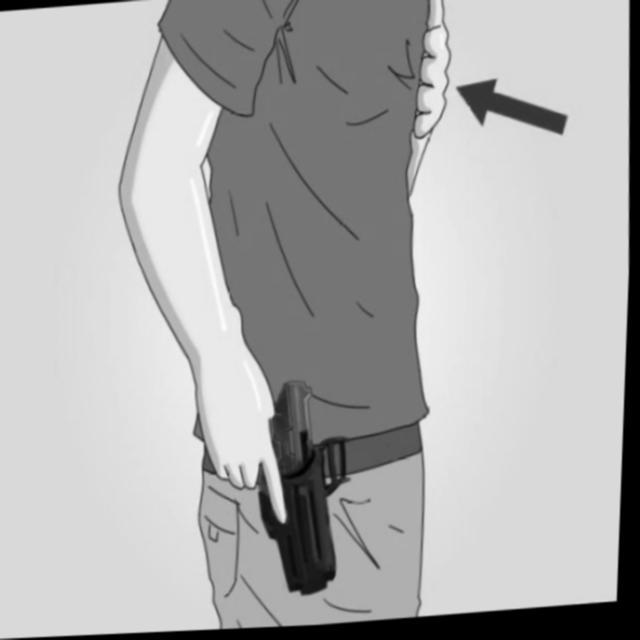weapon: (250, 376, 360, 606)
